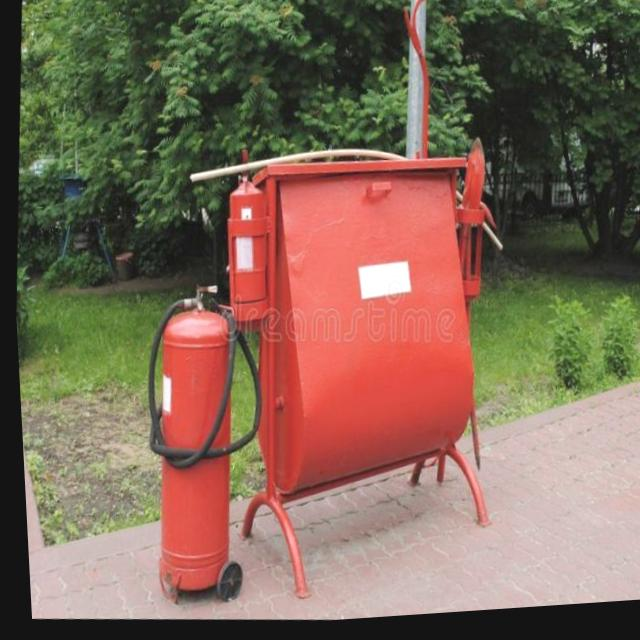FireExtinguisher: (121, 271, 275, 609), (201, 143, 280, 332)
